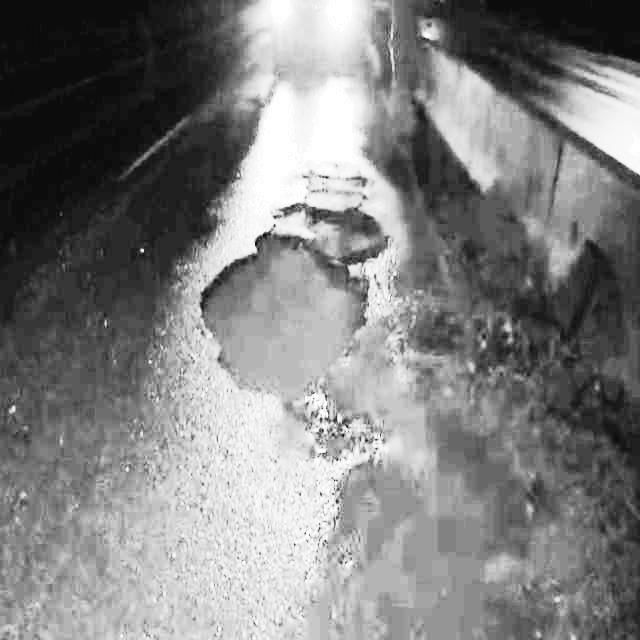Pothole: (195, 191, 382, 414)
